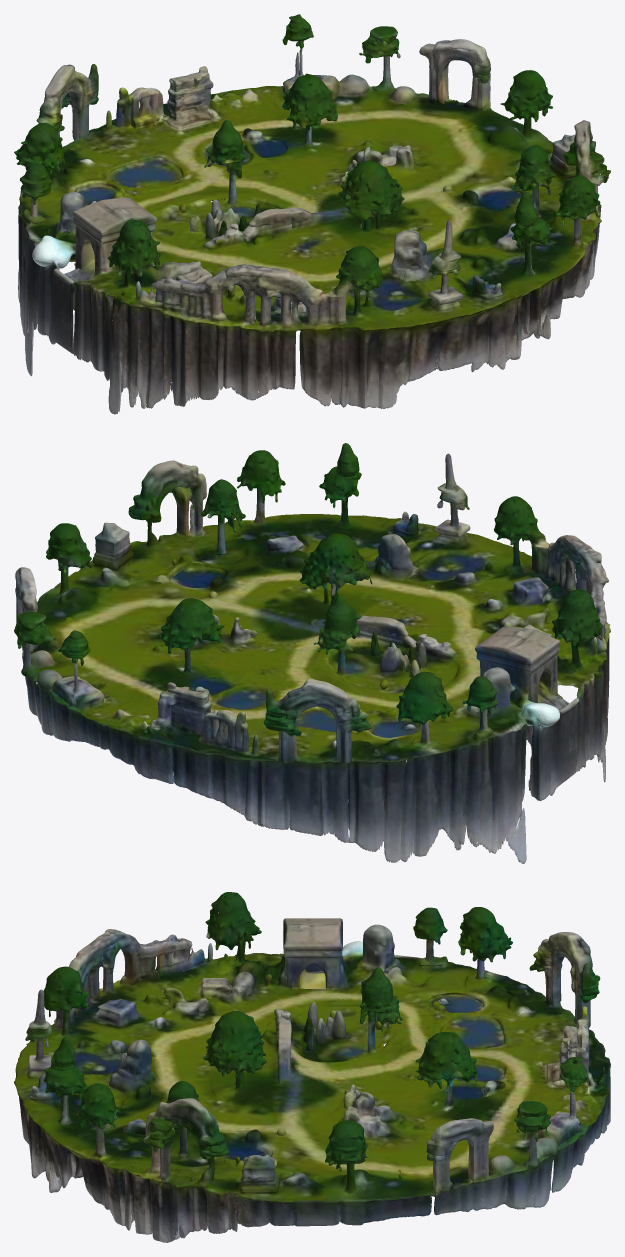
Rendered from starting-plains.glb.
3 views of the same model, one above another, from view 1: azimuth 30°, elevation 25°; view 2: azimuth 150°, elevation 25°; view 3: azimuth 270°, elevation 25° (orthographic). The views are drawn at different scales.
Parts seen in each view (by area): view 1: tripo_node_2d181b19-d28b-42d5-8f69-16e600da3ecb; view 2: tripo_node_2d181b19-d28b-42d5-8f69-16e600da3ecb; view 3: tripo_node_2d181b19-d28b-42d5-8f69-16e600da3ecb.
Boxes of the visible parts, box(x1,y1,x2,y2) form: tripo_node_2d181b19-d28b-42d5-8f69-16e600da3ecb: box(14, 14, 610, 414); tripo_node_2d181b19-d28b-42d5-8f69-16e600da3ecb: box(14, 443, 610, 863); tripo_node_2d181b19-d28b-42d5-8f69-16e600da3ecb: box(14, 892, 610, 1242).
Bounding box in the file's own units: 32767 × 13493 × 32291.
Materials: 1 (1 with a texture image).
